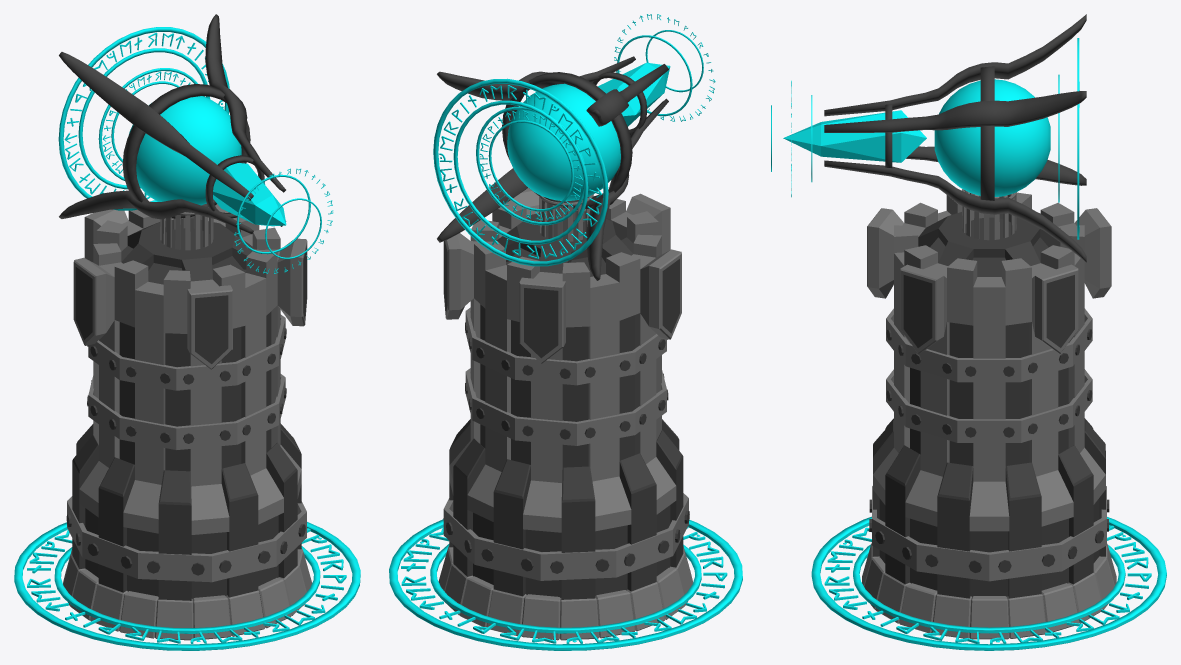
The model's file is MagicTower_2(final).fbx.
The picture shows the model from 3 angles, left to right: view 1: azimuth 30°, elevation 25°; view 2: azimuth 150°, elevation 25°; view 3: azimuth 270°, elevation 25°; orthographic projection. The views are drawn at different scales.
Parts seen in each view (by area): view 1: 2.Tower, 2.magic.canon; view 2: 2.Tower, 2.magic.canon; view 3: 2.Tower, 2.magic.canon.
Boxes of the visible parts, x1,y1,x2,y2 form: 2.Tower: (14,200,360,650); 2.magic.canon: (58,14,333,273); 2.Tower: (389,187,742,650); 2.magic.canon: (433,14,715,280); 2.Tower: (811,189,1166,650); 2.magic.canon: (771,14,1086,262).
Size of the model in its own units: 183 by 306 by 204.
